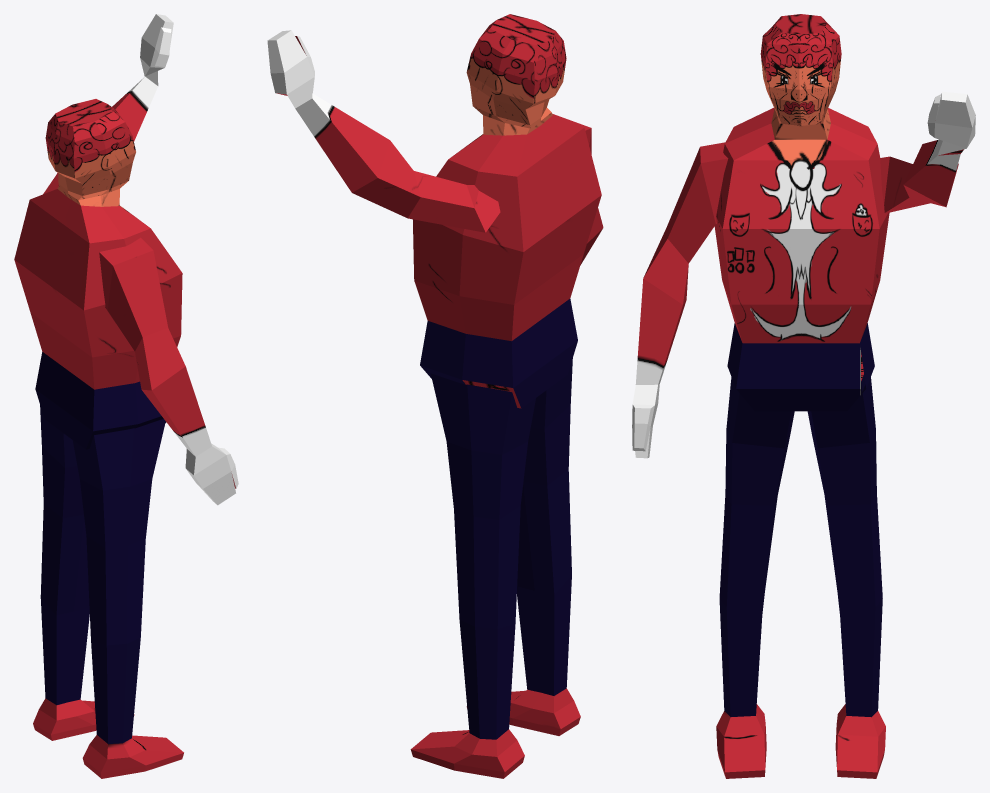
The model's file is BrasGaucheLeve.fbx.
3 views of the same model, side by side, from view 1: azimuth 30°, elevation 25°; view 2: azimuth 150°, elevation 25°; view 3: azimuth 270°, elevation 25° (orthographic). The views are drawn at different scales.
Visible parts, largest first — view 1: Cube.001; view 2: Cube.001; view 3: Cube.001.
Part boxes in pixels (left/top/right/bottom): Cube.001: left=14, top=14, right=238, bottom=778; Cube.001: left=267, top=14, right=603, bottom=778; Cube.001: left=632, top=14, right=975, bottom=778.
Bounding box in the file's own units: 137 × 447 × 191.
